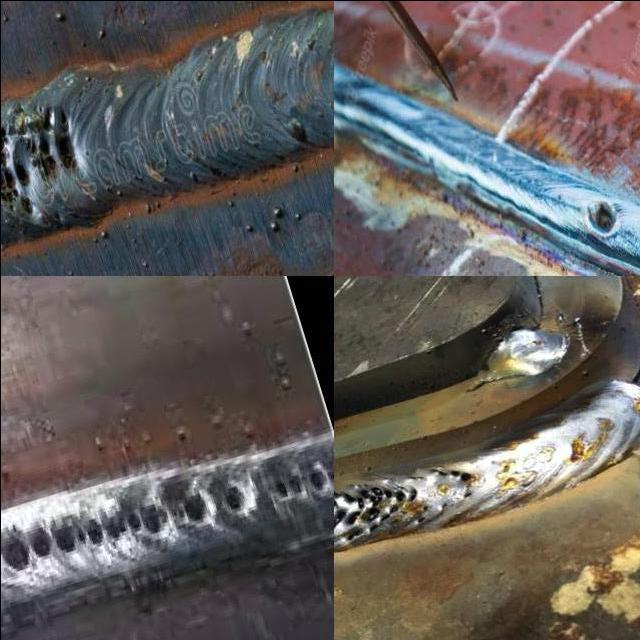defect: (0, 495, 176, 575), (333, 480, 422, 544), (23, 102, 79, 178), (0, 124, 39, 215), (265, 455, 333, 505), (177, 474, 216, 529), (220, 473, 255, 522), (584, 197, 622, 238), (429, 467, 477, 483), (434, 498, 453, 509), (460, 489, 476, 500), (408, 474, 424, 480), (416, 515, 427, 522), (421, 504, 430, 510)
